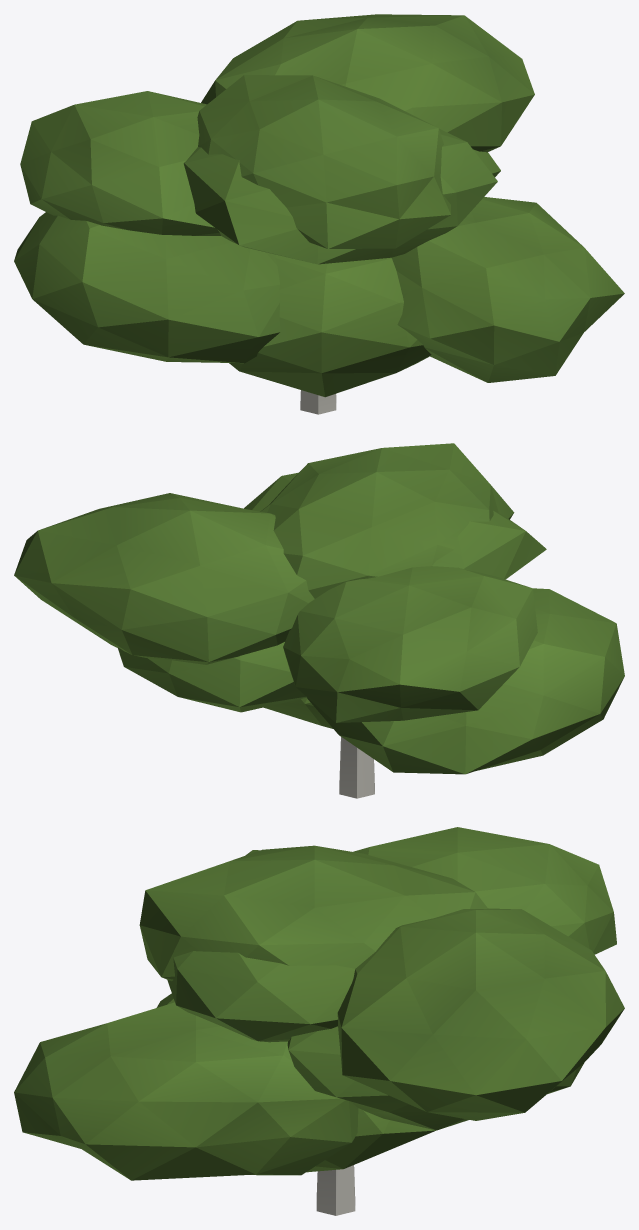
The model's file is veg_bjork_2.glb.
3 renders of one model, top to bottom at view 1: azimuth 30°, elevation 25°; view 2: azimuth 150°, elevation 25°; view 3: azimuth 270°, elevation 25°, orthographic. The views are drawn at different scales.
Visible parts, largest first — view 1: geometry_0; view 2: geometry_0; view 3: geometry_0.
Boxes of the visible parts, x1=… form: geometry_0: x1=14, y1=14, x2=624, y2=414; geometry_0: x1=14, y1=443, x2=624, y2=798; geometry_0: x1=14, y1=827, x2=624, y2=1215.
Size of the model in its own units: 1.77 by 1 by 1.62.
